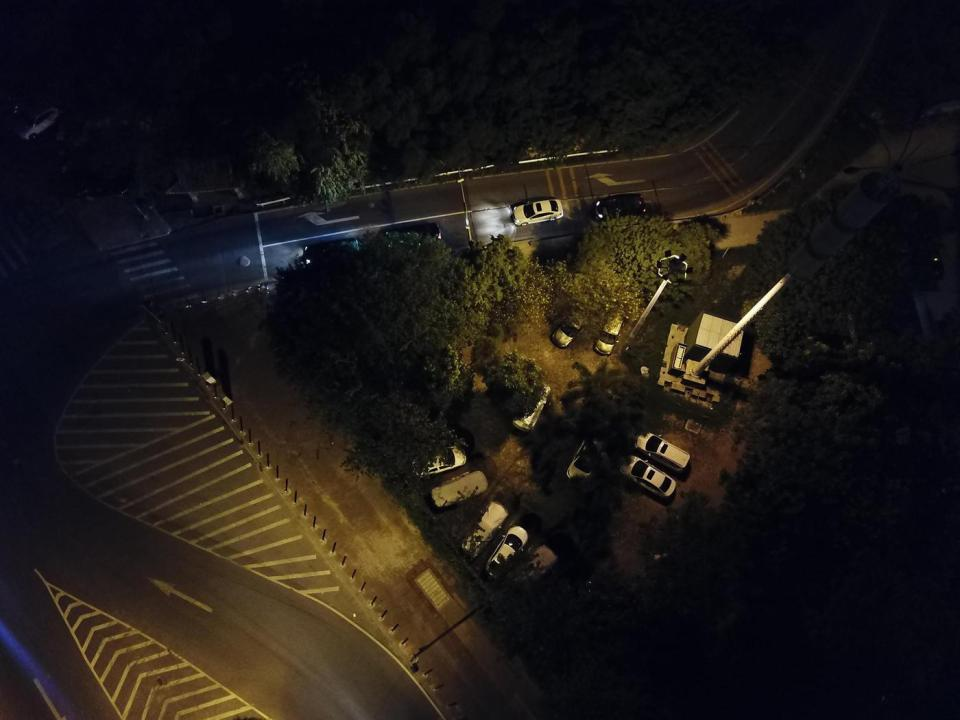car: (503, 544, 558, 600), (459, 501, 509, 560), (620, 453, 676, 499), (486, 525, 530, 580), (511, 380, 551, 434), (432, 471, 489, 508), (411, 443, 467, 478), (378, 222, 442, 252), (302, 238, 360, 269), (566, 437, 603, 482), (591, 192, 647, 221), (552, 311, 592, 349), (596, 308, 626, 356), (512, 199, 564, 226)
van: (633, 430, 691, 472)
